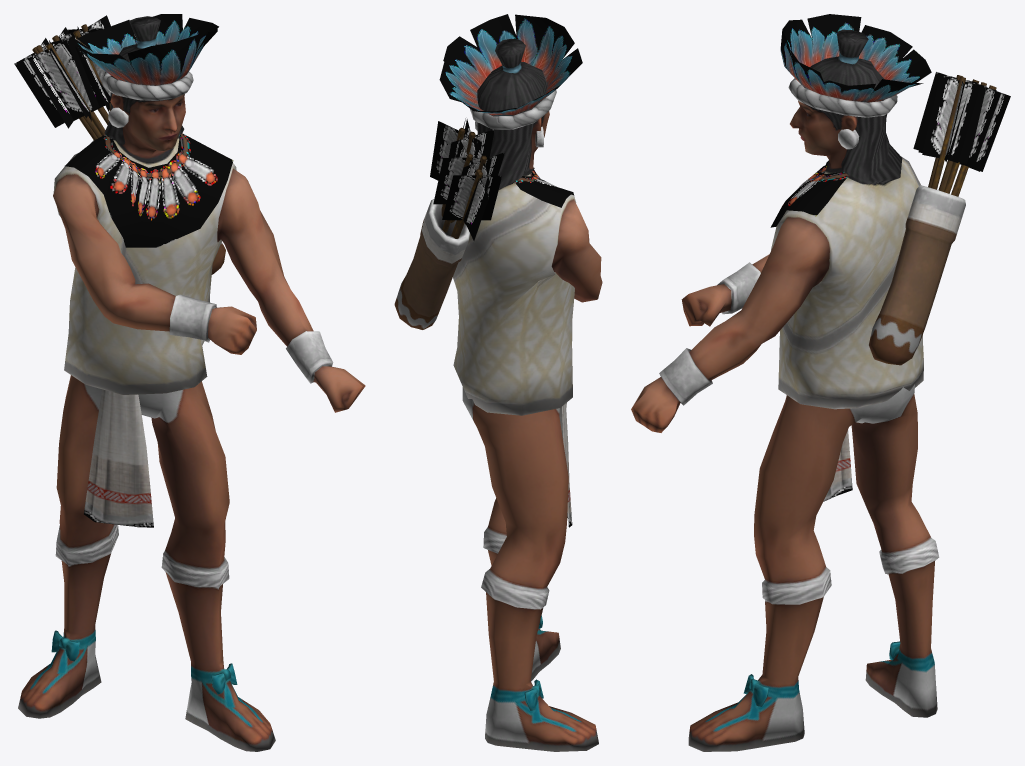
The model's file is body-mediumwarhutsoldiers.glb.
3 views of the same model, side by side, from view 1: azimuth 30°, elevation 25°; view 2: azimuth 150°, elevation 25°; view 3: azimuth 270°, elevation 25° (orthographic). The views are drawn at different scales.
Bounding box in the file's own units: 0.7454 × 2.17 × 1.08.
2 materials, 2 textured.
